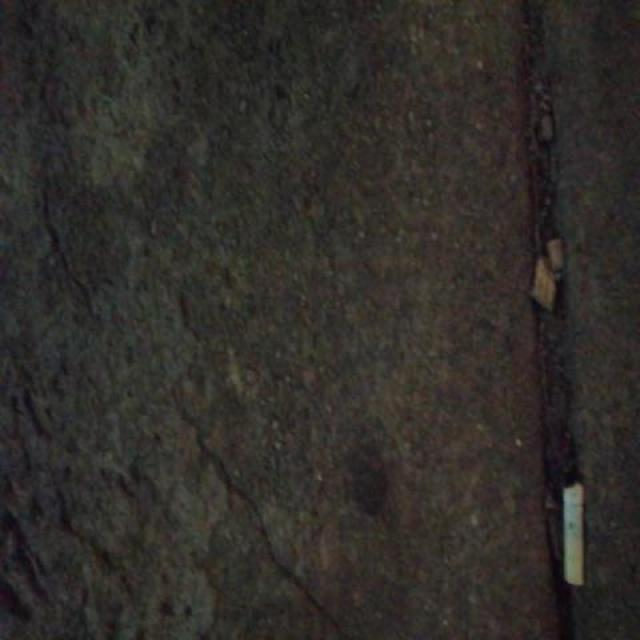non-organic waste: (555, 477, 593, 592)
